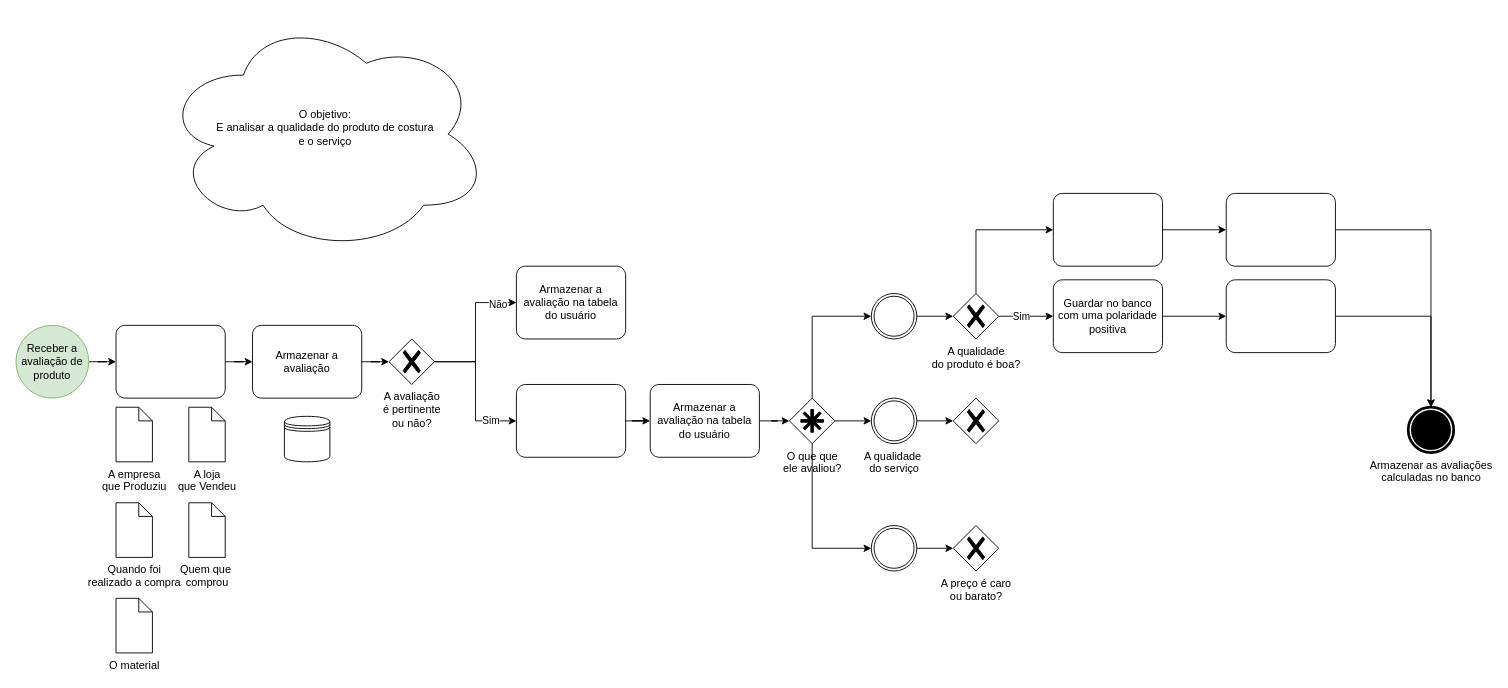
Some shapes in this 1508 by 688 pixel diagram are drawn without their labels. The centre of each missing label's shape, as x and y in pixels:
"A qualidade do produto" belongs at pixel 893 316.
"A qualidade do serviço é boa?" belongs at pixel 975 420.
"Banco de Dados de Avaliações" belongs at pixel 306 438.
"Guardar no banco com uma polaridade Negativa" belongs at pixel 1107 229.
"O preço do produto" belongs at pixel 893 548.
"Realizar levantamento de 3 a 0 estrelas" belongs at pixel 1280 229.
"Realizar levantamento de 3 a 5 estrelas" belongs at pixel 1280 316.
"Separar as informações importantes do produto" belongs at pixel 170 361.
"Verificar qual foi a nota que o usuário avaliou" belongs at pixel 571 420.
